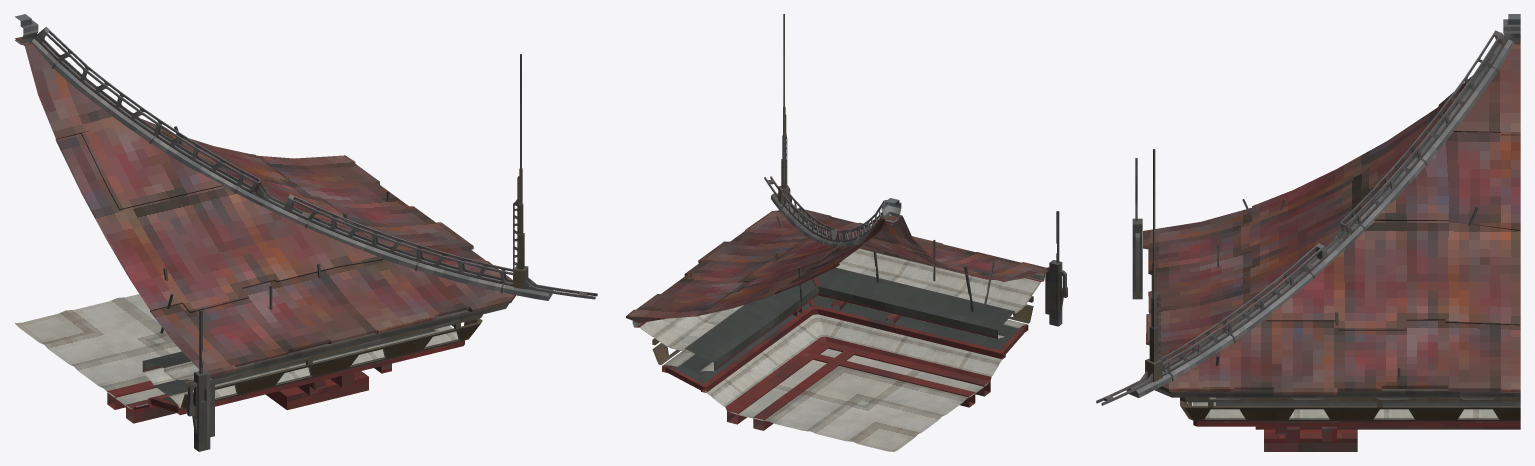
File: Pagoda_Tile_Roof_Corner_5000x5000_A.FBX
The picture shows the model from 3 angles, left to right: view 1: azimuth 30°, elevation 25°; view 2: azimuth 150°, elevation 25°; view 3: azimuth 270°, elevation 25°; orthographic projection. The views are drawn at different scales.
Parts seen in each view (by area): view 1: Geometry_Pagoda_Tile_Roof_Corner_5000x5000_A_LOD00; view 2: Geometry_Pagoda_Tile_Roof_Corner_5000x5000_A_LOD00; view 3: Geometry_Pagoda_Tile_Roof_Corner_5000x5000_A_LOD00.
Part boxes in pixels (x1,y1,x2,y2): Geometry_Pagoda_Tile_Roof_Corner_5000x5000_A_LOD00: (15,14,597,451); Geometry_Pagoda_Tile_Roof_Corner_5000x5000_A_LOD00: (626,14,1067,451); Geometry_Pagoda_Tile_Roof_Corner_5000x5000_A_LOD00: (1096,14,1520,451).
Size of what is drawn, in the model's own units: 6073 by 5236 by 5771.
